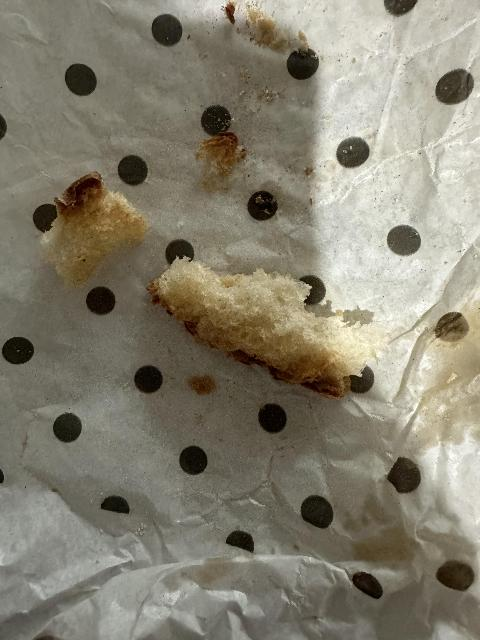Organik: (149, 254, 359, 398), (40, 170, 146, 276), (235, 8, 314, 59), (340, 519, 419, 567), (205, 132, 244, 181)
